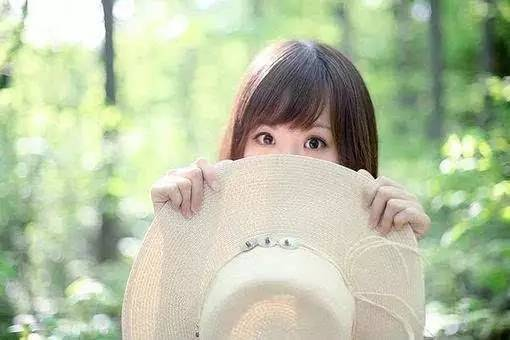face: (246, 99, 338, 207)
